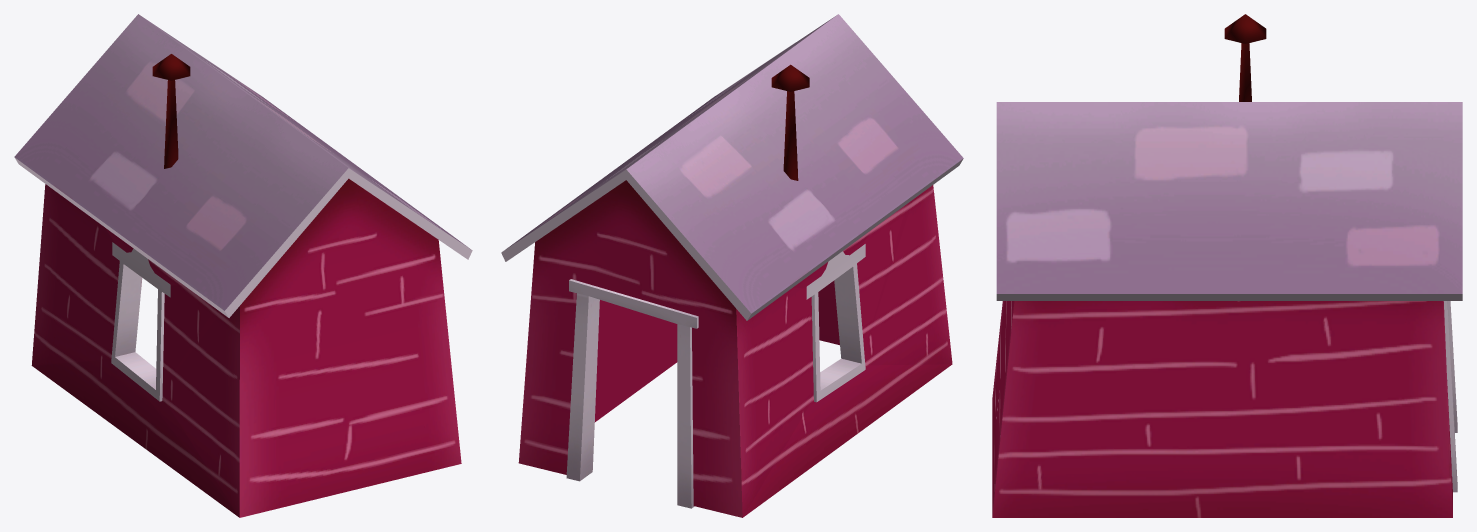
Rendered from saa7zfarmhouse.dae.
The picture shows the model from 3 angles, left to right: view 1: azimuth 30°, elevation 25°; view 2: azimuth 150°, elevation 25°; view 3: azimuth 270°, elevation 25°; orthographic projection. The views are drawn at different scales.
Visible parts, largest first — view 1: Farmhouse; view 2: Farmhouse; view 3: Farmhouse.
Boxes of the visible parts, x1,y1,x2,y2 form: Farmhouse: (14, 14, 472, 517); Farmhouse: (501, 14, 963, 517); Farmhouse: (992, 14, 1462, 517).
Size of the model in its own units: 8.18 by 11.68 by 12.13.
